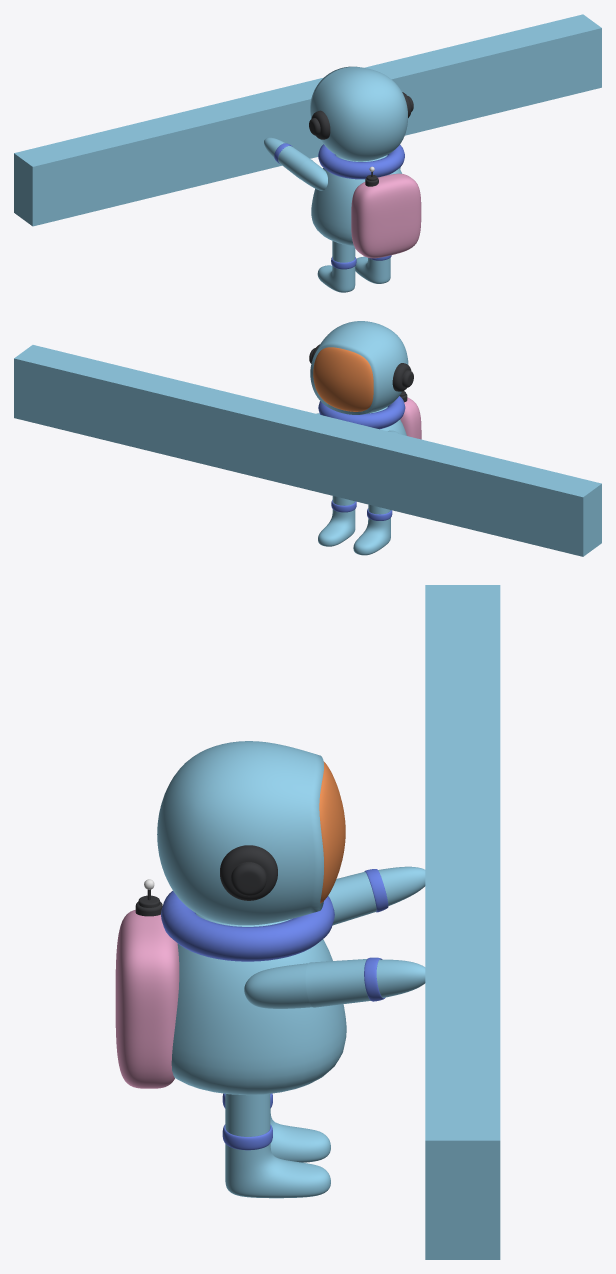
The model's file is avatar.gltf.
3 renders of one model, top to bottom at view 1: azimuth 30°, elevation 25°; view 2: azimuth 150°, elevation 25°; view 3: azimuth 270°, elevation 25°, orthographic. The views are drawn at different scales.
Visible parts, largest first — view 1: Cube.010, Cube, Cube.007, Cube.002, Cube.003, Torus, Cube.005, Cylinder.001; view 2: Cube.010, Cube, Cube.001, Cube.003, Torus, Cube.007, Cylinder.001, Cube.004; view 3: Cube.010, Cube, Cube.002, Cube.007, Cube.005, Cube.003, Torus, Cylinder.001, Cube.001, Cube.006.
Part boxes in pixels (x1,y1,x2,y2): Cube.010: [14, 14, 601, 226]; Cube: [310, 66, 407, 161]; Cube.007: [351, 173, 421, 258]; Cube.002: [311, 155, 402, 245]; Cube.003: [317, 241, 390, 292]; Torus: [318, 144, 404, 179]; Cube.005: [264, 137, 400, 190]; Cylinder.001: [309, 92, 413, 139]; Cube.010: [14, 345, 601, 556]; Cube: [310, 321, 408, 414]; Cube.001: [313, 347, 373, 411]; Cube.003: [318, 496, 390, 555]; Torus: [318, 396, 405, 429]; Cube.007: [400, 397, 421, 439]; Cylinder.001: [309, 344, 413, 391]; Cube.004: [331, 500, 392, 520]; Cube.010: [425, 585, 500, 1259]; Cube: [157, 741, 323, 925]; Cube.002: [171, 913, 346, 1095]; Cube.007: [115, 910, 179, 1088]; Cube.005: [244, 866, 425, 1008]; Cube.003: [225, 1093, 330, 1198]; Torus: [161, 891, 334, 961]; Cylinder.001: [220, 845, 277, 900]; Cube.001: [319, 761, 345, 903]; Cube.006: [364, 869, 388, 1001].
Bounding box in the file's own units: 7 × 2.48 × 2.05.
